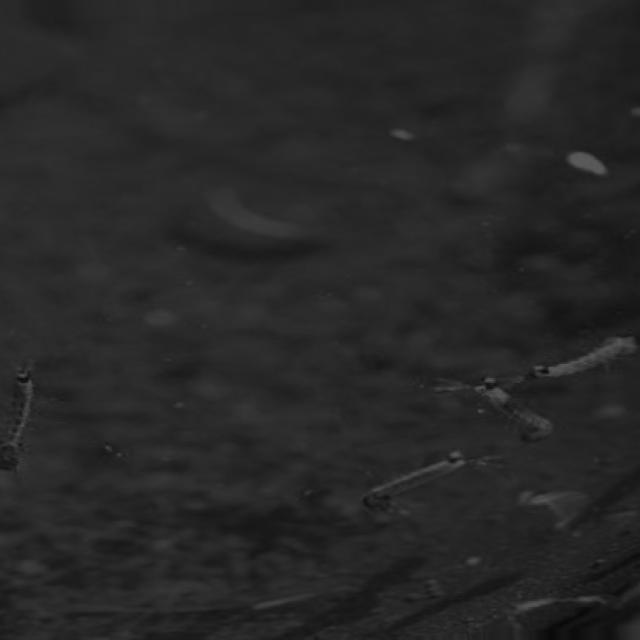larvas: (366, 449, 463, 511), (467, 379, 555, 447), (532, 334, 639, 378), (0, 354, 34, 470)
